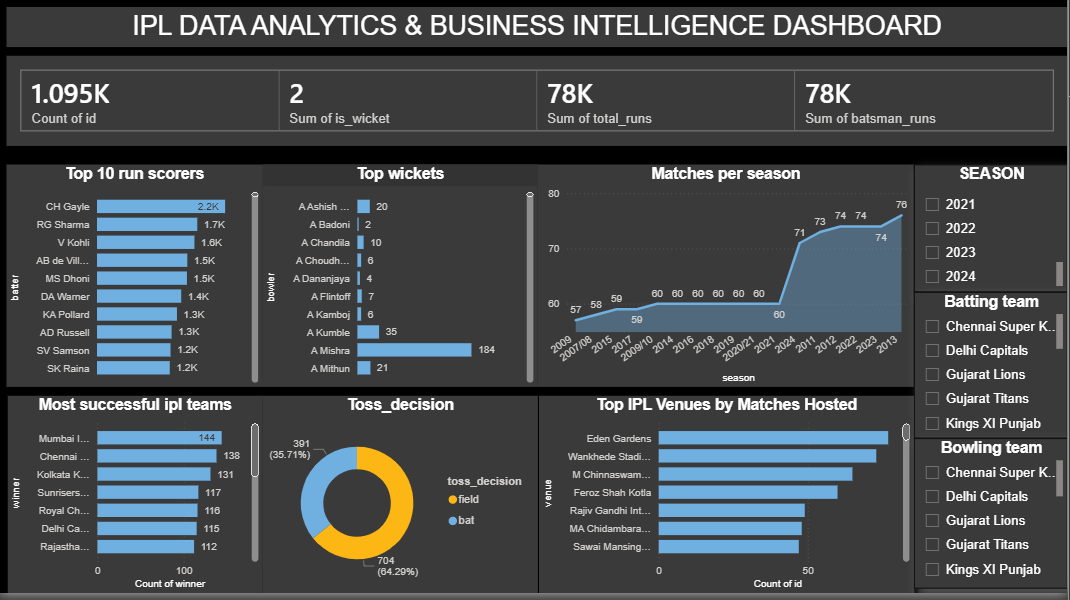

This screenshot's page, from the dashboard's own definition file:
{"tool":"powerbi","page":{"name":"Page 1","canvas":[1280,720],"ordinal":0},"visuals":[{"type":"textbox","box":[9,18,1271.3,47.9],"z":0},{"type":"cardVisual","fields":{"Data":["CountNonNull(cleaned_matches.id)","Sum(cleaned_deliveries.is_wicket)","Sum(cleaned_deliveries.total_runs)","Sum(cleaned_deliveries.batsman_runs)"]},"box":[9,76.4,1271.3,107.8],"z":1000},{"type":"clusteredBarChart","title":"Top 10  run scorers","fields":{"Category":["cleaned_deliveries.batter"],"Y":["Sum(cleaned_deliveries.batsman_runs)"]},"box":[9,206.6,307,266.5],"z":2000},{"type":"clusteredBarChart","title":"Top wickets","fields":{"Category":["cleaned_deliveries.bowler"],"Y":["CountNonNull(cleaned_deliveries.is_wicket)"]},"box":[316,206.6,329.4,266.5],"z":3000},{"type":"lineChart","title":"Matches per season","fields":{"Y":["CountNonNull(cleaned_matches.id)"],"Category":["cleaned_matches.season"]},"box":[645.4,206.6,450.7,266.5],"z":3001},{"type":"clusteredBarChart","title":"Most successful ipl teams","fields":{"Category":["cleaned_matches.winner"],"Y":["CountNonNull(cleaned_matches.winner)"]},"box":[10.5,483.7,305.5,236.6],"z":3002},{"type":"donutChart","title":"Toss_decision","fields":{"Category":["cleaned_matches.toss_decision"],"Y":["CountNonNull(cleaned_matches.toss_decision)"]},"box":[316,483.7,329.4,236.6],"z":3003},{"type":"clusteredBarChart","title":"Top IPL Venues by Matches Hosted","fields":{"Category":["cleaned_matches.venue"],"Y":["CountNonNull(cleaned_matches.id)"]},"box":[646.9,483.7,449.2,236.6],"z":3004},{"type":"slicer","title":"SEASON","fields":{"Values":["cleaned_matches.season"]},"box":[1096.1,206.6,184.2,152.7],"z":3005},{"type":"slicer","title":"Batting team","fields":{"Values":["cleaned_deliveries.batting_team"]},"box":[1096.1,359.4,184.2,175.2],"z":3006},{"type":"slicer","title":"Bowling team","fields":{"Values":["cleaned_deliveries.bowling_team"]},"box":[1096.1,534.6,184.2,179.7],"z":3007}]}

Visuals, with their boxes in screenshot pixels (x1, y1, x2, y2), scaled from the page's 1280x720 canvas onto the 1070x600 screenshot:
textbox: x1=8, y1=15, x2=1069, y2=55
cardVisual - CountNonNull(cleaned_matches.id) x Sum(cleaned_deliveries.is_wicket): x1=8, y1=64, x2=1069, y2=154
"Top 10  run scorers" clusteredBarChart: x1=8, y1=172, x2=264, y2=394
"Top wickets" clusteredBarChart: x1=264, y1=172, x2=540, y2=394
"Matches per season" lineChart: x1=540, y1=172, x2=916, y2=394
"Most successful ipl teams" clusteredBarChart: x1=9, y1=403, x2=264, y2=599
"Toss_decision" donutChart: x1=264, y1=403, x2=540, y2=599
"Top IPL Venues by Matches Hosted" clusteredBarChart: x1=541, y1=403, x2=916, y2=599
"SEASON" slicer: x1=916, y1=172, x2=1069, y2=299
"Batting team" slicer: x1=916, y1=300, x2=1069, y2=445
"Bowling team" slicer: x1=916, y1=446, x2=1069, y2=595
